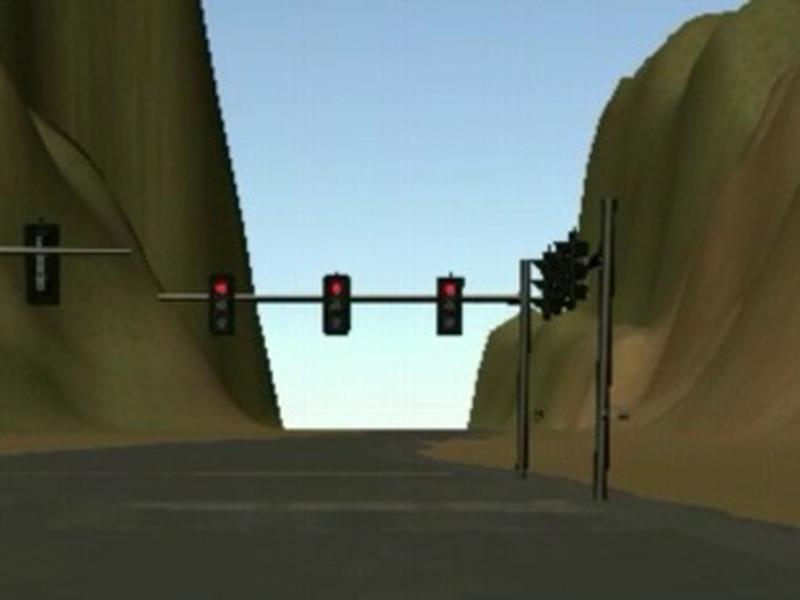Red: (323, 275, 350, 336), (437, 278, 462, 335), (209, 276, 233, 335)
